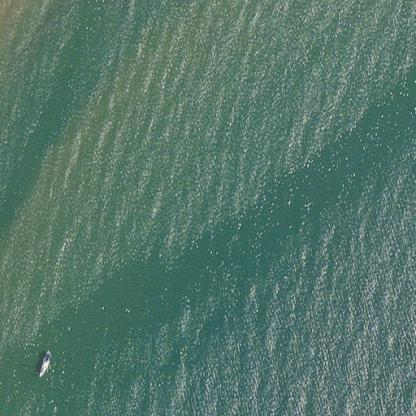ship: (33, 344, 58, 380)
